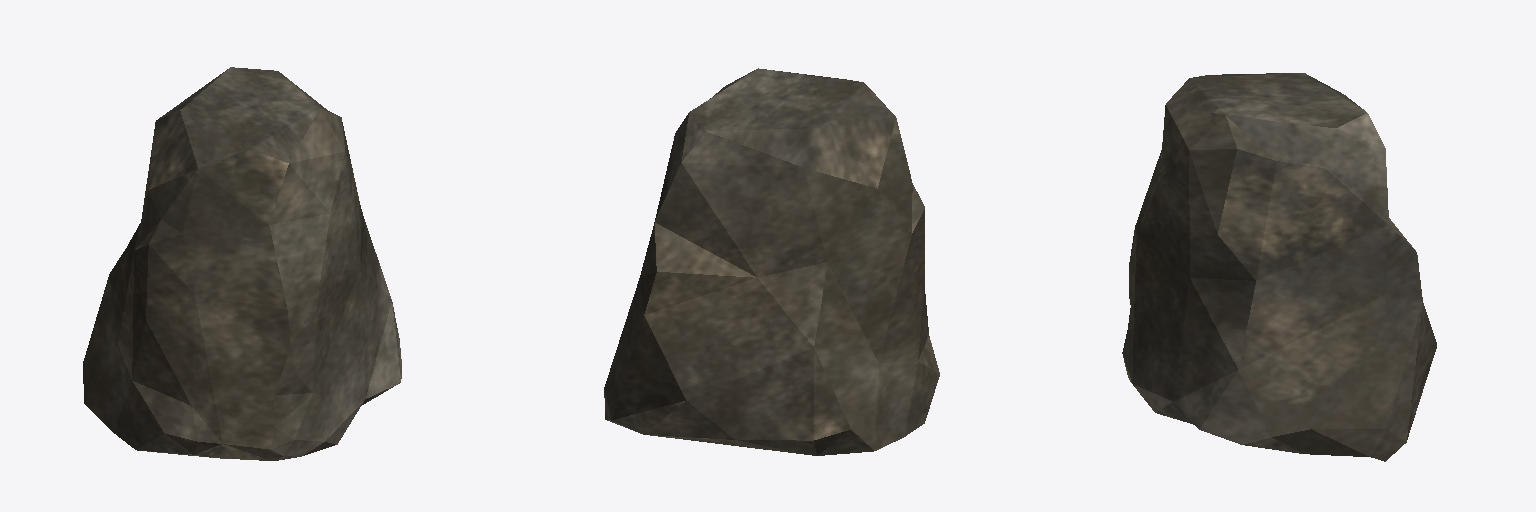
3 renders of one model, left to right at view 1: azimuth 30°, elevation 25°; view 2: azimuth 150°, elevation 25°; view 3: azimuth 270°, elevation 25°, orthographic.
Visible parts, largest first — view 1: RockSet05B; view 2: RockSet05B; view 3: RockSet05B.
Part boxes in pixels (left/top/right/bottom): RockSet05B: left=83, top=67, right=401, bottom=460; RockSet05B: left=604, top=68, right=939, bottom=455; RockSet05B: left=1122, top=73, right=1436, bottom=461.
Size of the model in its own units: 12.97 by 14.1 by 12.7.
Materials: 1 (1 with a texture image).